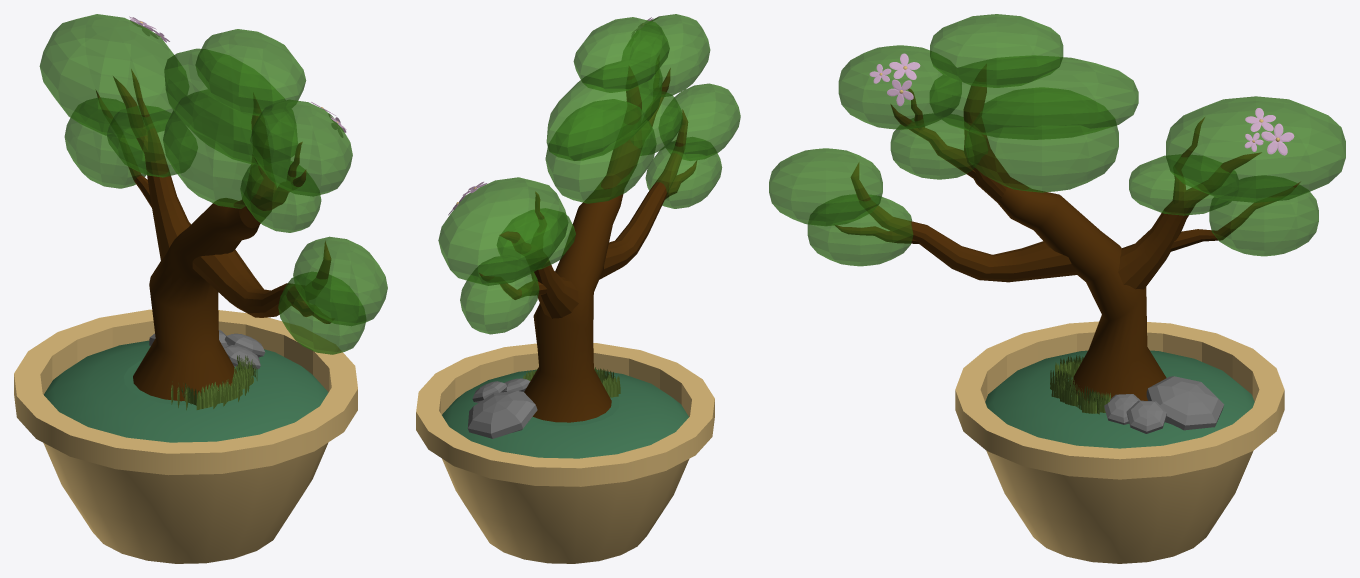
Rendered from Bonsai.fbx.
3 renders of one model, left to right at view 1: azimuth 30°, elevation 25°; view 2: azimuth 150°, elevation 25°; view 3: azimuth 270°, elevation 25°, orthographic. The views are drawn at different scales.
Parts seen in each view (by area): view 1: pPlane48; view 2: pPlane48; view 3: pPlane48.
Part boxes in pixels (box(x1,y1,x2,y2)): pPlane48: box(14, 14, 387, 563); pPlane48: box(416, 14, 740, 563); pPlane48: box(769, 14, 1345, 563).
Bounding box in the file's own units: 2.33 × 3.95 × 4.08.
